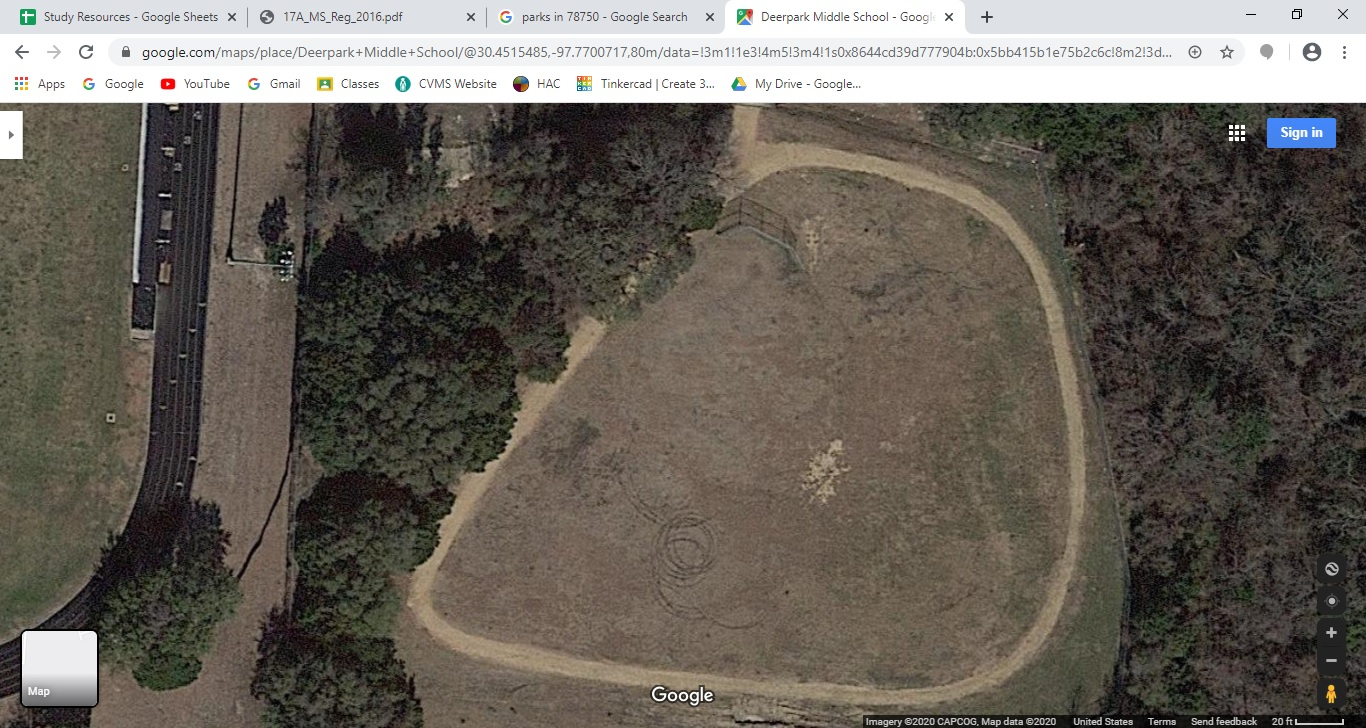soccer: (538, 407, 1061, 637)
